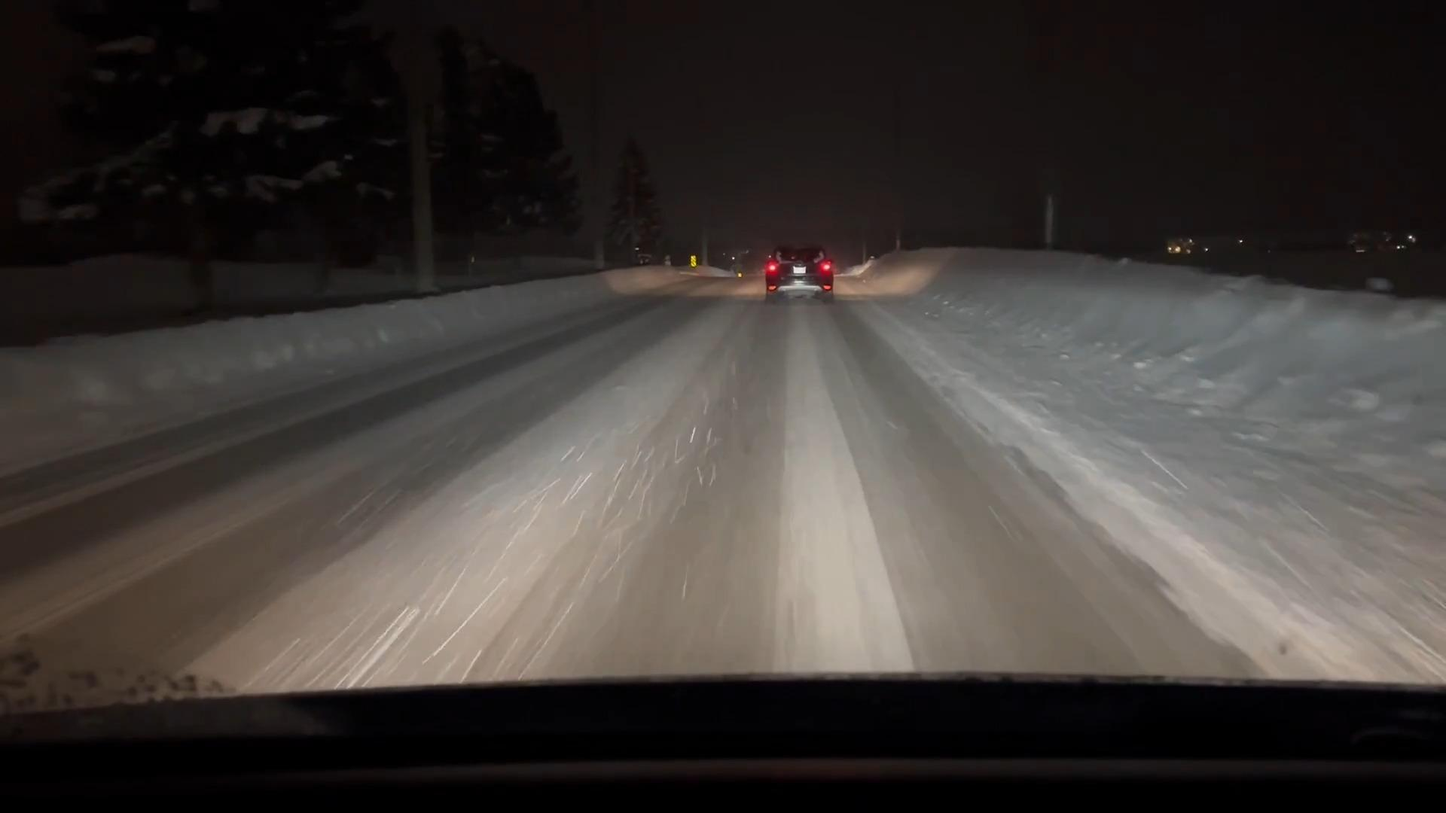Snow: (0, 273, 1325, 703)
